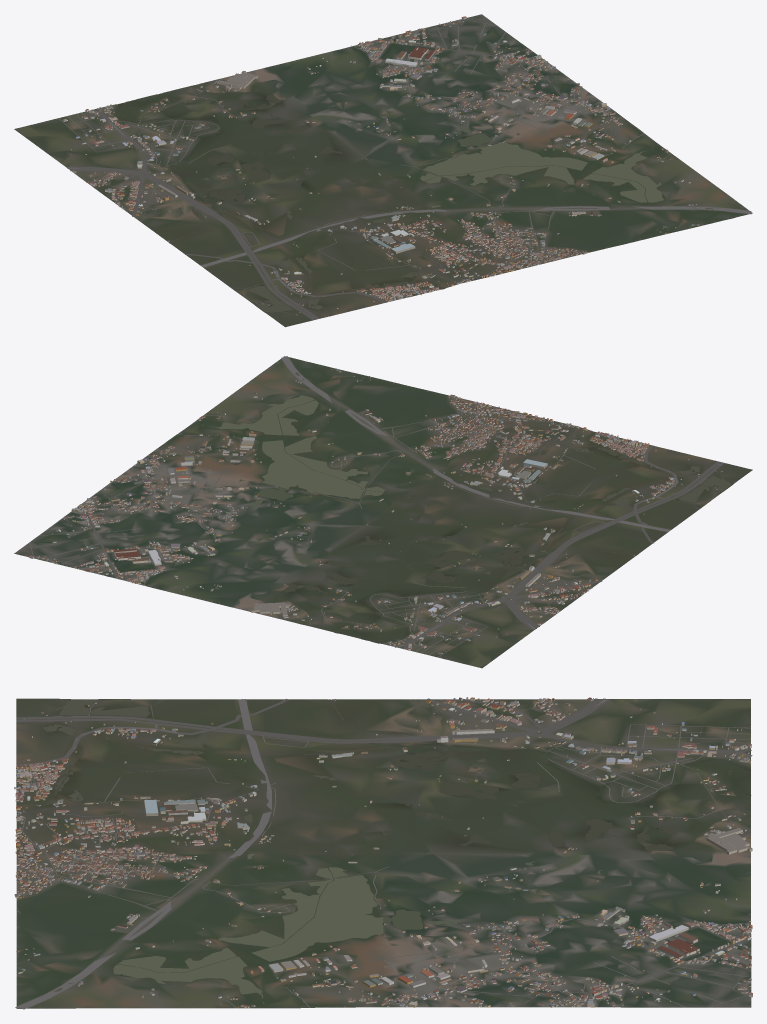
3 renders of one model, top to bottom at view 1: azimuth 30°, elevation 25°; view 2: azimuth 150°, elevation 25°; view 3: azimuth 270°, elevation 25°, orthographic. The views are drawn at different scales.
Visible parts, largest first — view 1: ground, buildings, water, roads; view 2: ground, buildings, water, roads; view 3: ground, buildings, water, roads.
Part boxes in pixels (<box>): ground: <box>14,14,752,327</box>; buildings: <box>62,16,699,315</box>; water: <box>115,37,663,312</box>; roads: <box>58,17,752,320</box>; ground: <box>14,357,752,668</box>; buildings: <box>29,368,722,654</box>; water: <box>78,395,731,642</box>; roads: <box>27,356,724,657</box>; ground: <box>16,698,751,1008</box>; buildings: <box>14,697,752,1007</box>; water: <box>16,699,751,1003</box>; roads: <box>15,698,752,1009</box>.
Bounding box in the file's own units: 2812 × 26.69 × 2821.
